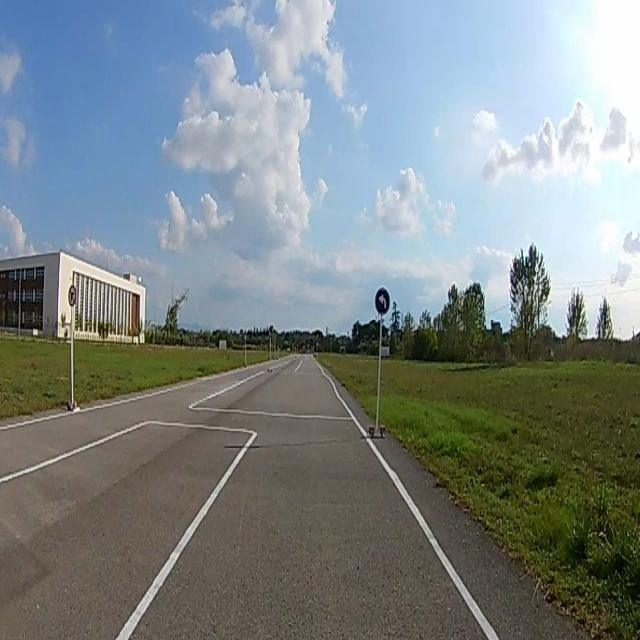sagadonulmez: (67, 284, 77, 304)
sol: (373, 289, 391, 316)
